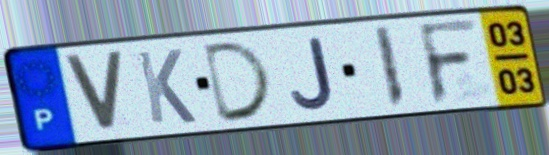D: (200, 38, 278, 126)
F: (414, 16, 483, 108)
I: (371, 23, 409, 112)
J: (288, 35, 338, 113)
K: (133, 47, 200, 127)
V: (59, 49, 127, 135)
